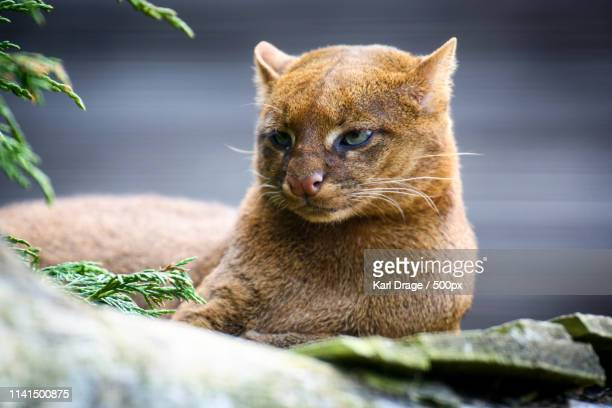Jaguarundi: (187, 33, 481, 327)
